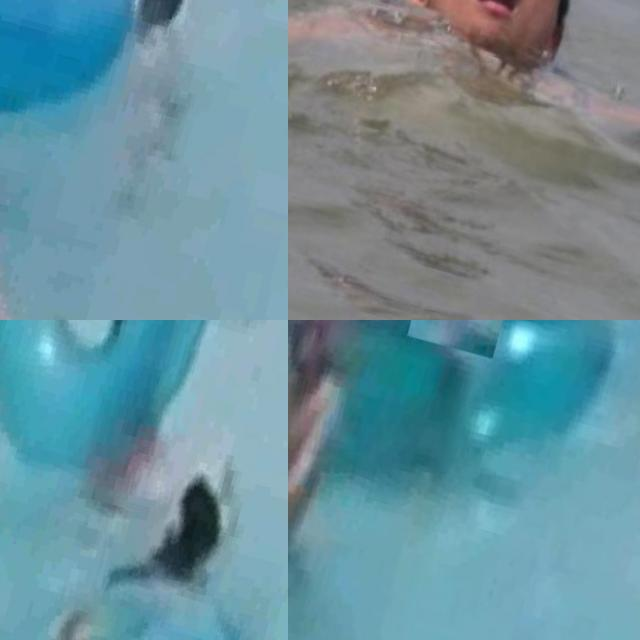drowning: (288, 0, 640, 224), (36, 0, 259, 184), (94, 423, 288, 617)
swimming: (288, 320, 381, 607), (406, 320, 516, 360)
